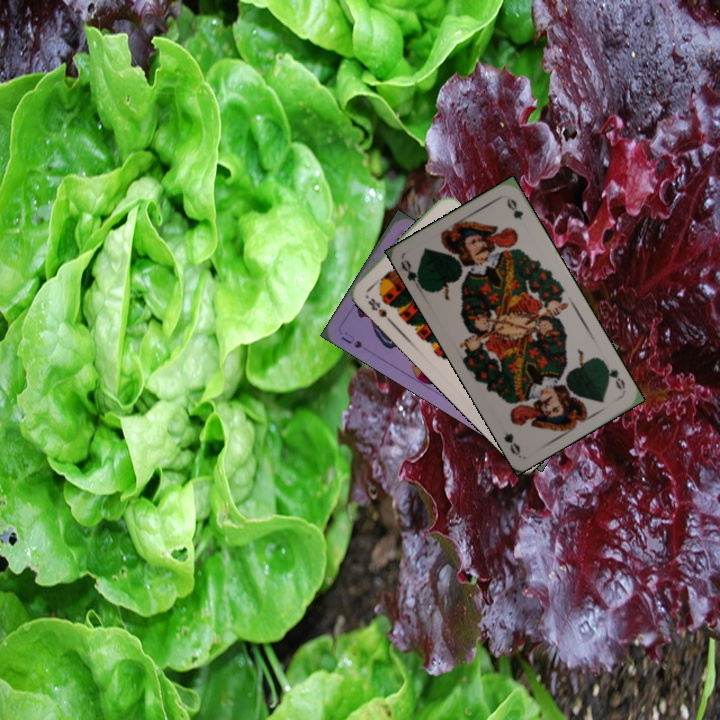GO: (397, 256, 427, 295), (600, 358, 628, 392)
S8: (364, 294, 394, 324)
SU: (336, 327, 365, 351)
